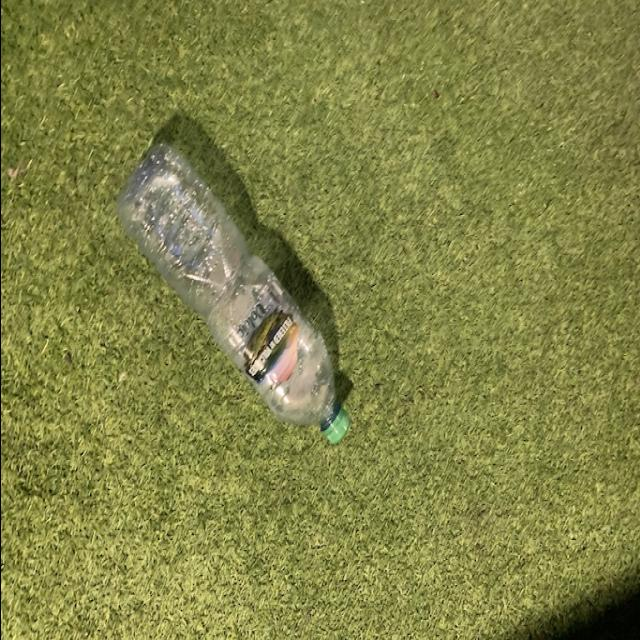litter: (111, 134, 352, 446)
